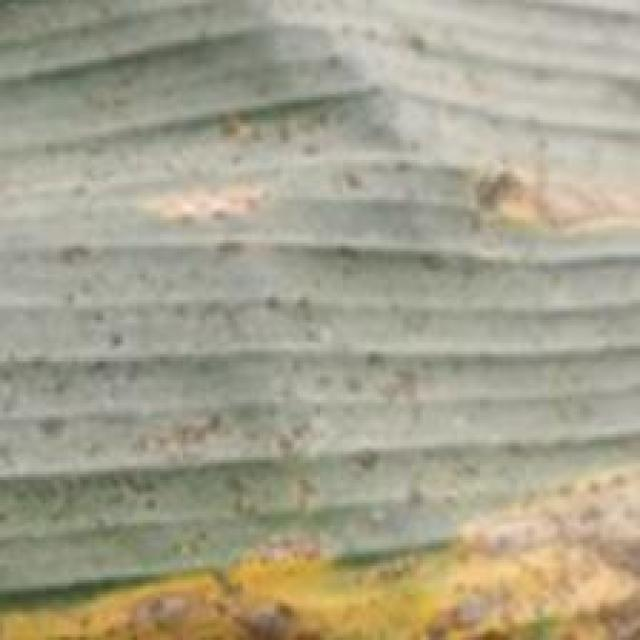Downey_mildrew: (0, 460, 640, 640), (437, 150, 640, 264), (107, 166, 310, 257)
